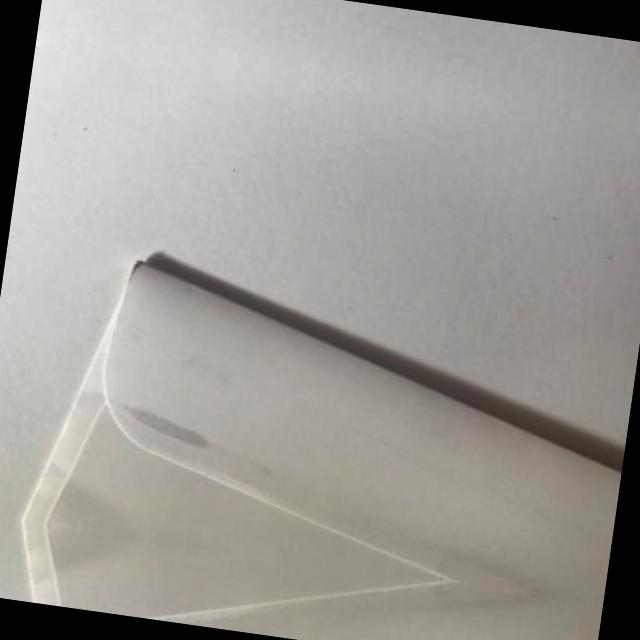paper: (13, 246, 640, 601), (2, 518, 603, 640)
